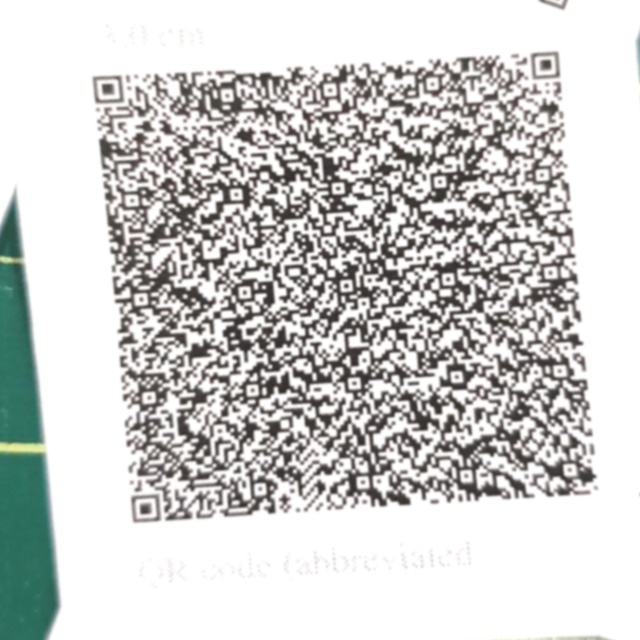qr-code: (9, 0, 640, 600)
